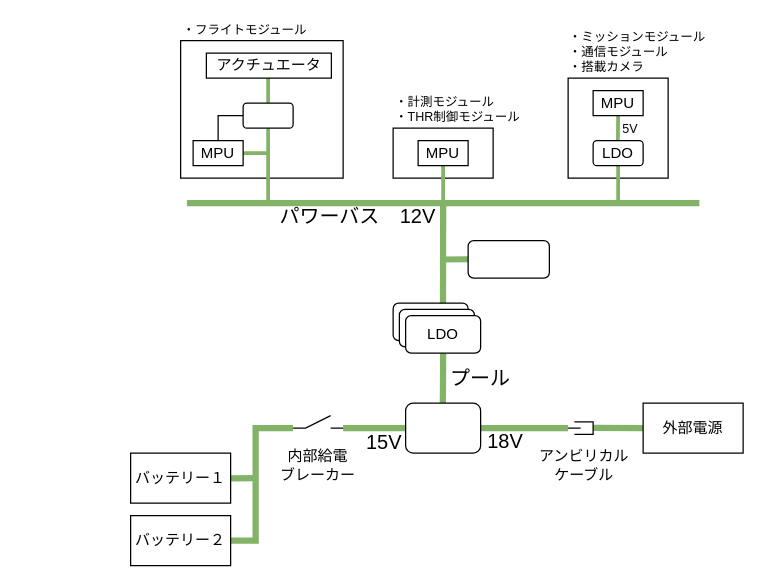
Some shapes in this 765 by 588 pixel diagram are drawn without their labels. The box of each missing label's shape, as (x1, y1, x2, y2) in pixels:
LTC: (404, 402, 481, 453)
SSR: (242, 102, 293, 128)
UPS: (467, 239, 549, 278)
